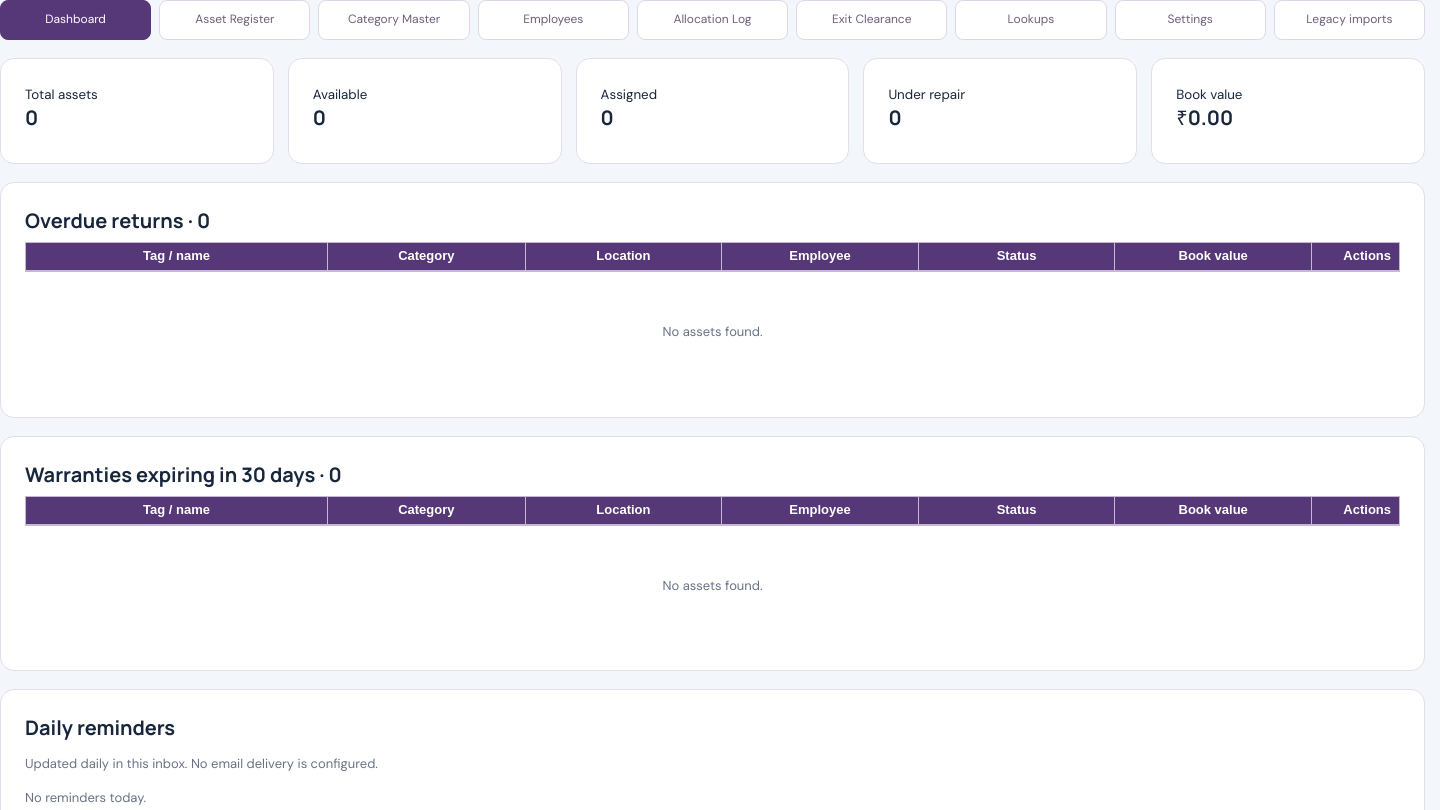
Scenario: shows inventory tabs and category custom-field builder
The width and height of the screenshot is (1440, 810).
expect the text "Total assets" is shown: met, box [25,86,98,103]
Click the button "Category Master": (394, 20) [318,0,470,40]
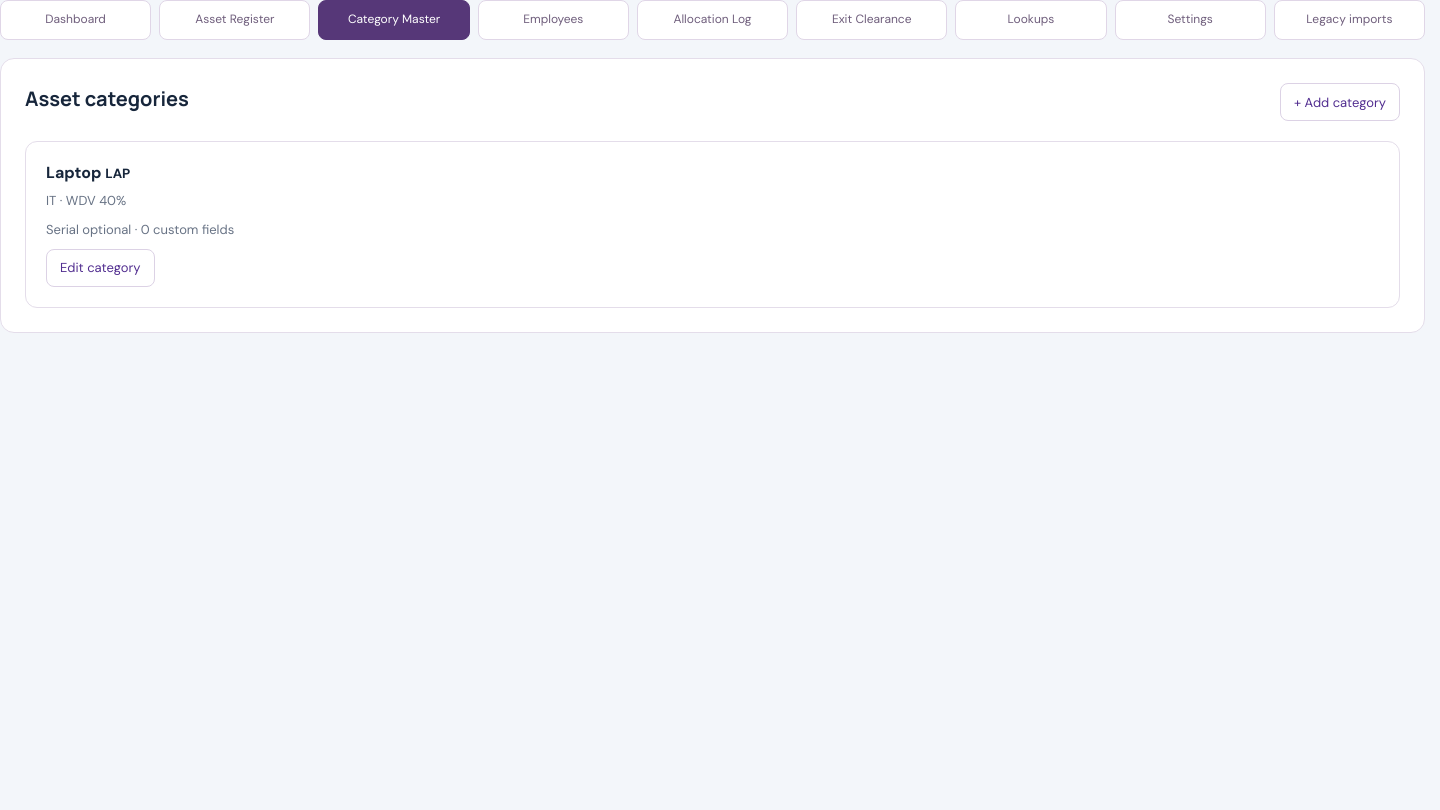
Click the button "+ Add category": (1340, 102) [1280,83,1400,121]
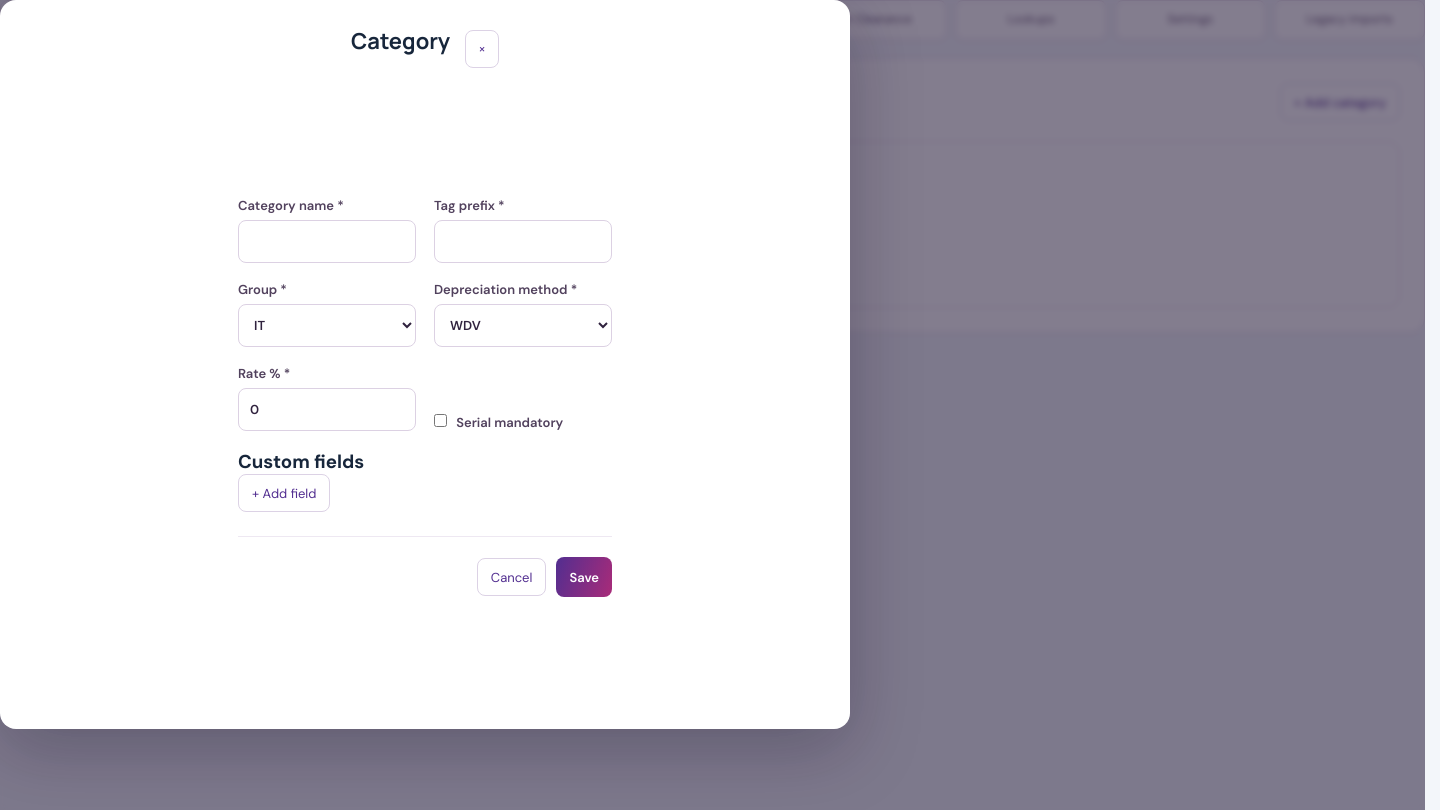
expect the dialog is shown: met, box [0,0,850,729]
Click the button "+ Add field": (284, 493) [238,474,330,512]
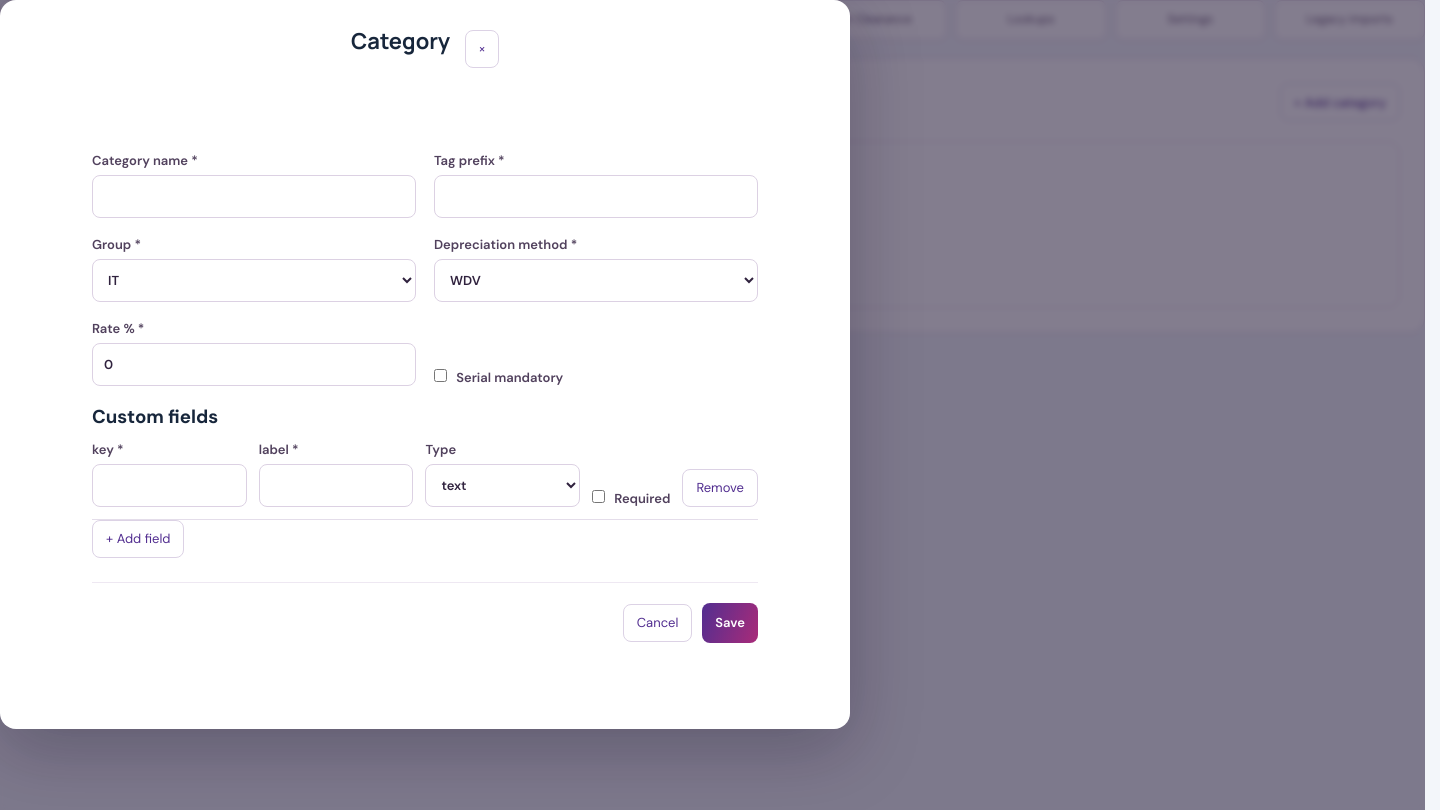
expect the dropdown labelled "Type" is shown: met, box [425,464,580,506]
expect the checkbox labelled "Required" is shown: met, box [592,490,605,502]
